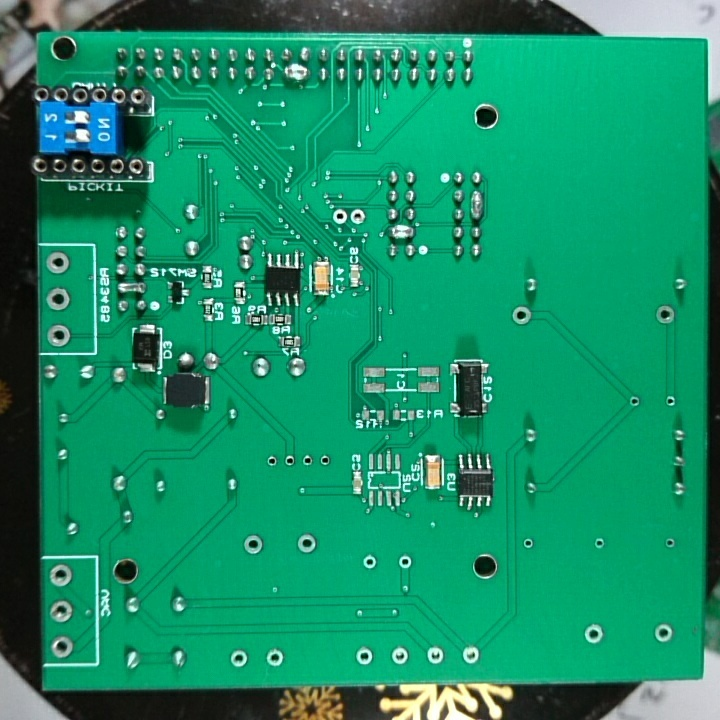F: (45, 320, 74, 349), (48, 633, 77, 661), (240, 531, 267, 560), (581, 620, 608, 647), (45, 286, 72, 313), (294, 531, 320, 559), (48, 598, 74, 625), (48, 563, 75, 589), (44, 249, 70, 276), (509, 303, 534, 329), (226, 648, 251, 674), (458, 643, 483, 668), (653, 303, 677, 329), (651, 622, 675, 647), (263, 646, 288, 669), (388, 643, 411, 666), (424, 644, 446, 668), (354, 643, 374, 667), (349, 205, 367, 230), (395, 552, 414, 575), (330, 206, 349, 229), (360, 552, 380, 573), (299, 450, 317, 472), (280, 452, 299, 472), (520, 535, 538, 555), (626, 392, 643, 412), (318, 449, 332, 472), (662, 392, 679, 410), (264, 453, 280, 471), (592, 534, 607, 553), (662, 534, 678, 551)
P: (279, 63, 311, 85), (468, 188, 487, 223), (115, 279, 147, 297), (385, 223, 414, 240)
